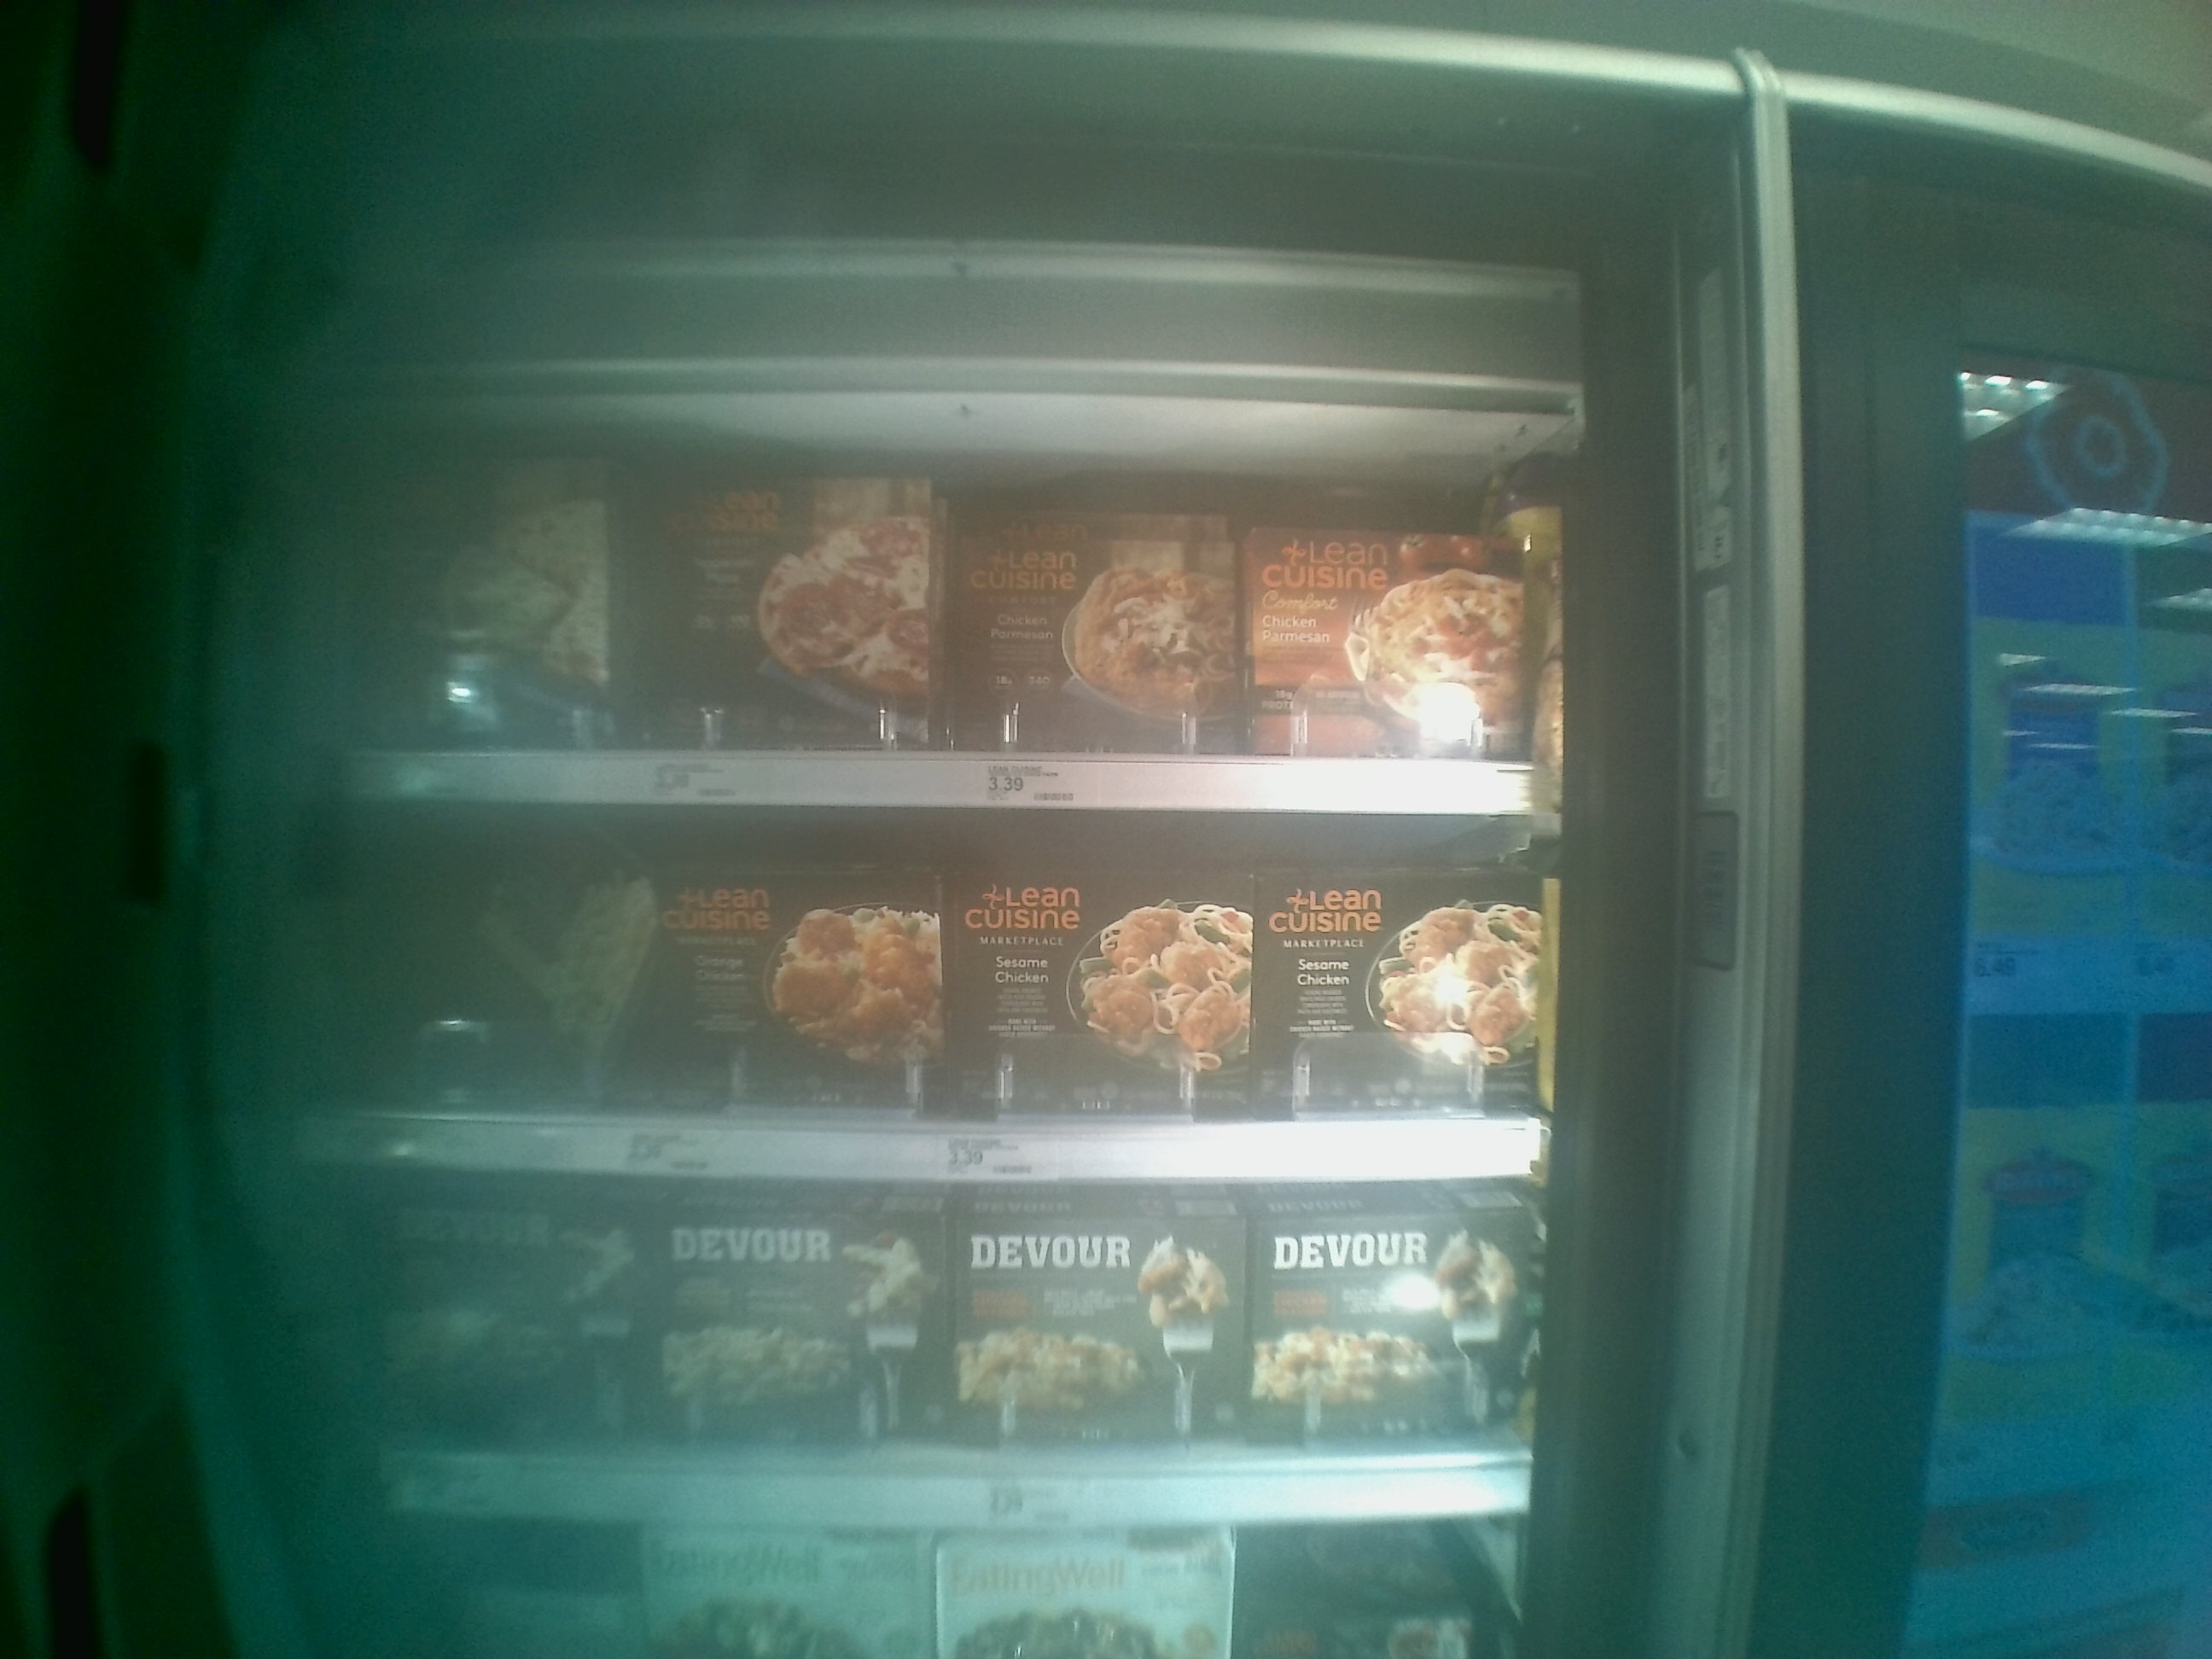shelf: (314, 415, 1529, 814), (307, 802, 1543, 1175), (310, 1159, 1538, 1516)
